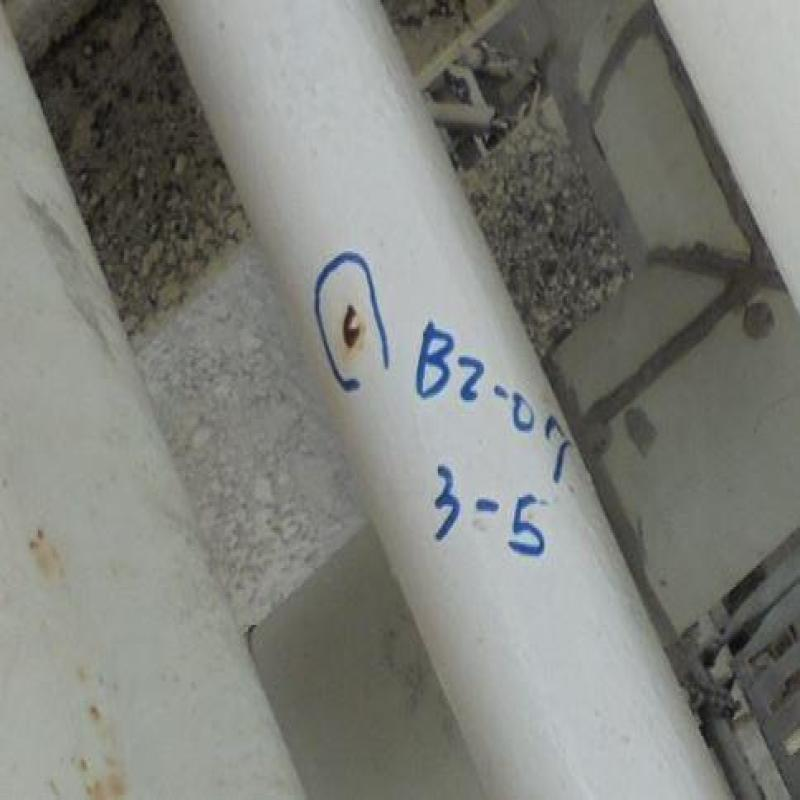corrosion: (337, 310, 362, 343)
